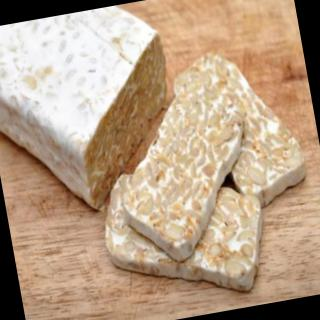Tempe: (102, 72, 270, 273)
